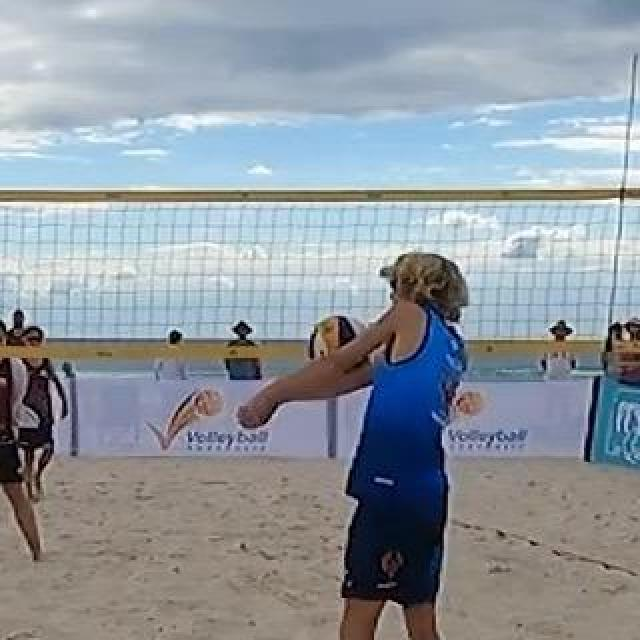volleyball: (306, 313, 378, 381)
